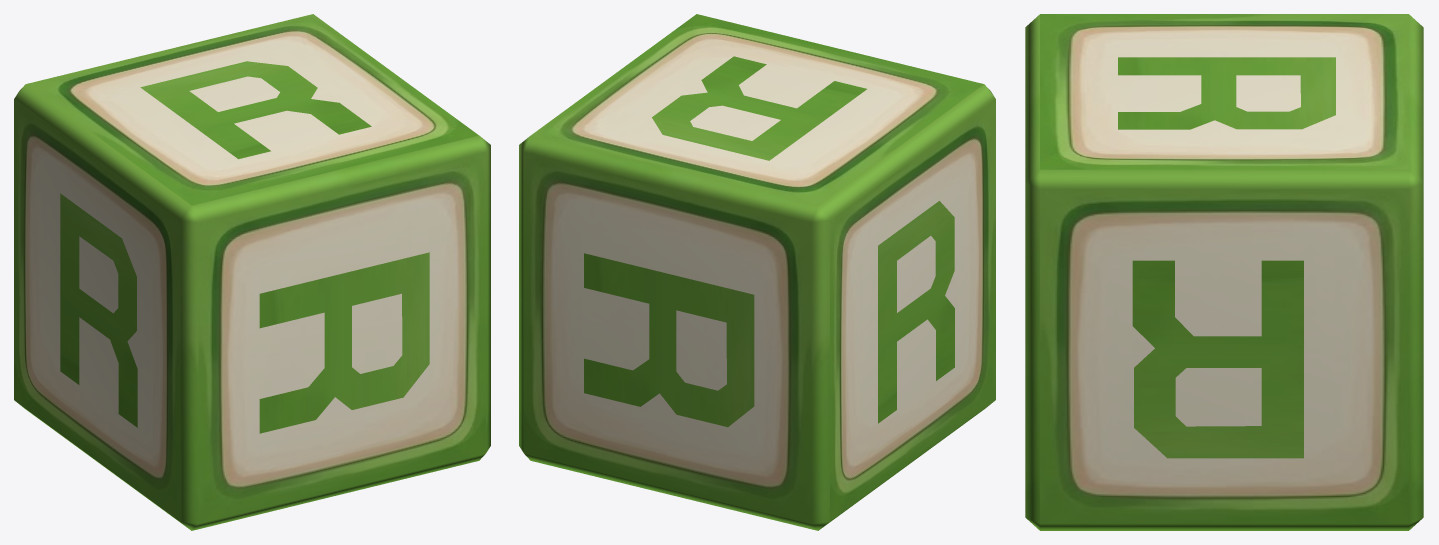
Rendered from CubeR.glb.
The picture shows the model from 3 angles, left to right: view 1: azimuth 30°, elevation 25°; view 2: azimuth 150°, elevation 25°; view 3: azimuth 270°, elevation 25°; orthographic projection. The views are drawn at different scales.
Parts seen in each view (by area): view 1: CubeR; view 2: CubeR; view 3: CubeR.
Part boxes in pixels (box(x1,y1,x2,y2)): CubeR: box(14, 14, 490, 530); CubeR: box(519, 14, 995, 530); CubeR: box(1025, 14, 1423, 530).
Size of what is drawn, in the model's own units: 0.513 by 0.513 by 0.513.
1 material, 1 textured.
